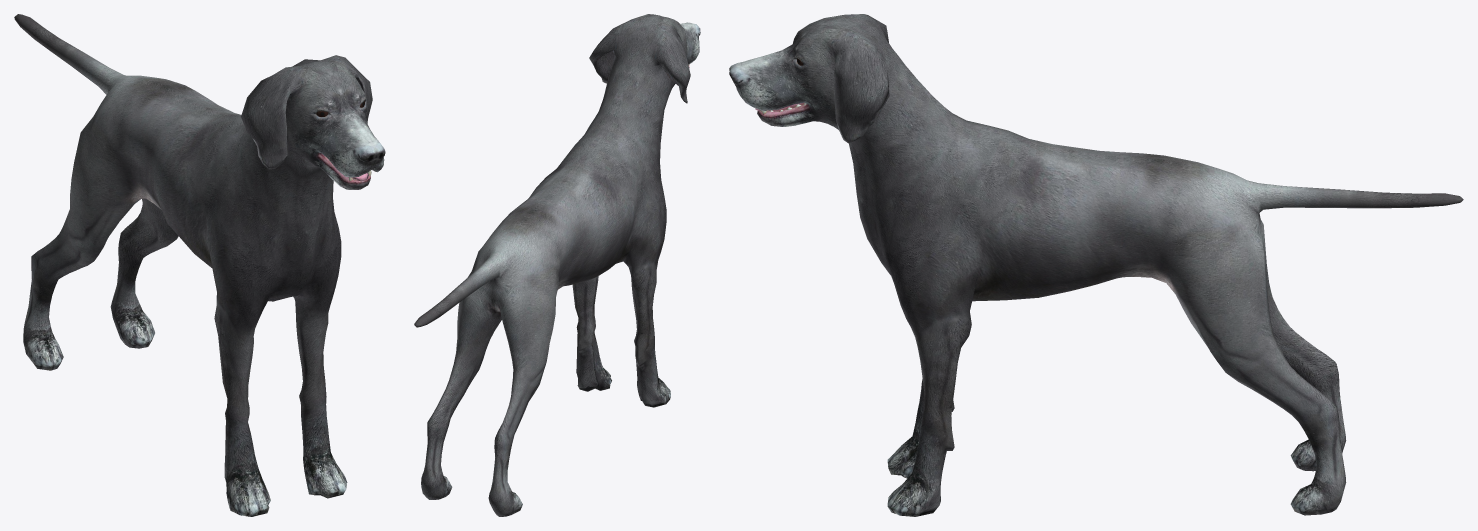
The model's file is Kopecik.fbx.
The picture shows the model from 3 angles, left to right: view 1: azimuth 30°, elevation 25°; view 2: azimuth 150°, elevation 25°; view 3: azimuth 270°, elevation 25°; orthographic projection. The views are drawn at different scales.
Visible parts, largest first — view 1: DogBody; view 2: DogBody; view 3: DogBody.
Part boxes in pixels (x1,y1,x2,y2): DogBody: (14,14,385,516); DogBody: (414,14,700,516); DogBody: (729,14,1463,516).
Size of the model in its own units: 18.09 by 64.42 by 91.74.
